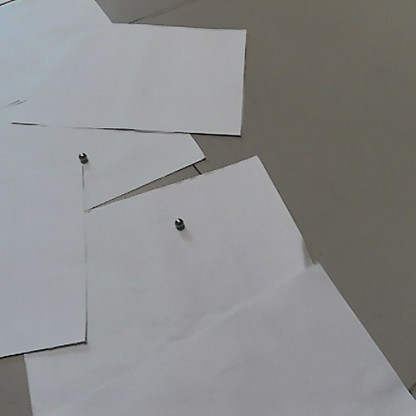ironball: (171, 215, 183, 229), (75, 150, 86, 161)
